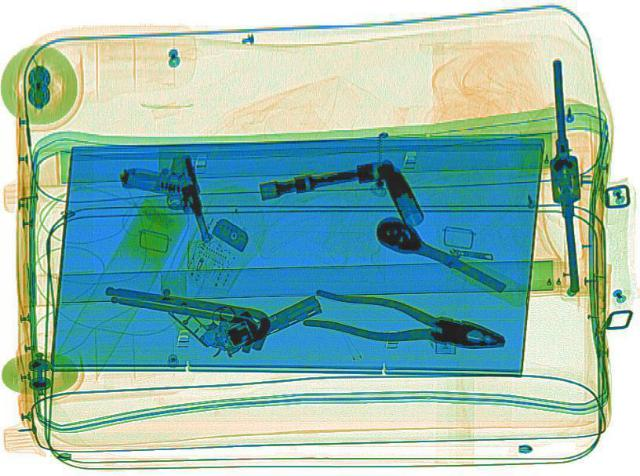Gun: (164, 248, 336, 361), (112, 150, 216, 250)
Pliers: (300, 284, 510, 359)
